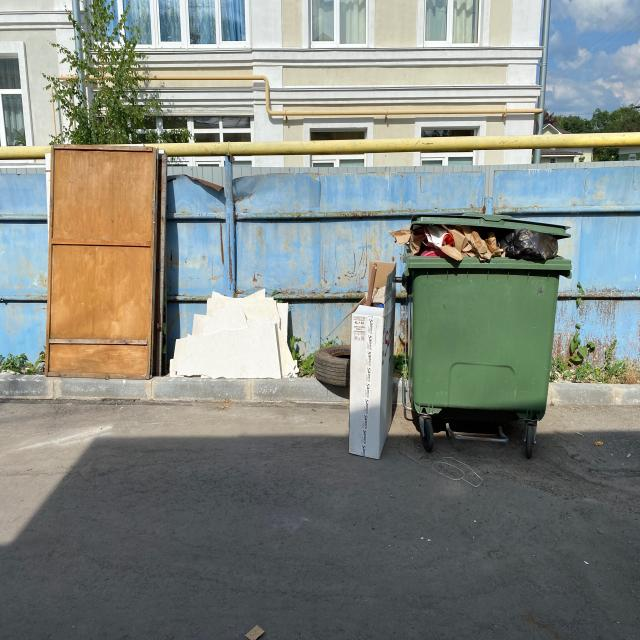bin: (409, 254, 570, 415)
trash: (409, 210, 560, 255)
